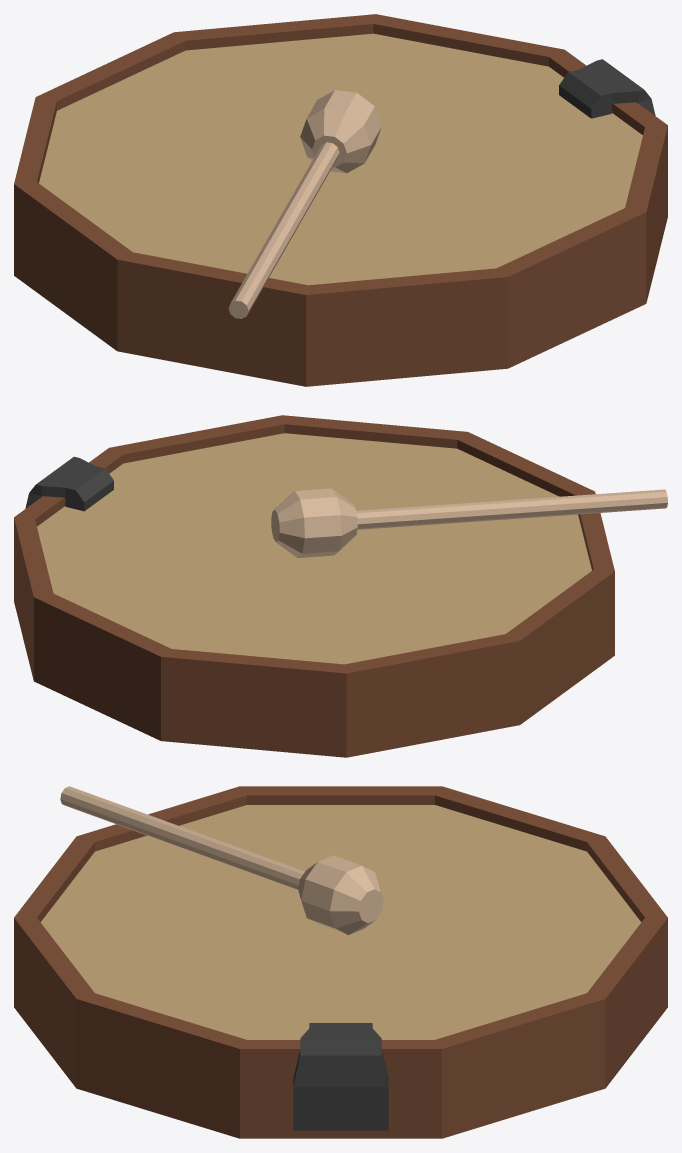
Rendered from drum.fbx.
3 renders of one model, top to bottom at view 1: azimuth 30°, elevation 25°; view 2: azimuth 150°, elevation 25°; view 3: azimuth 270°, elevation 25°, orthographic. The views are drawn at different scales.
Parts seen in each view (by area): view 1: skin, drum, drumstick, sensor; view 2: skin, drum, drumstick, sensor; view 3: skin, drum, drumstick, sensor.
Boxes of the visible parts, x1,y1,x2,y2 form: skin: (39,33,642,285); drum: (14,14,667,386); drumstick: (228,90,381,318); sensor: (559,59,655,118); skin: (37,433,591,664); drum: (14,415,614,757); drumstick: (271,488,667,557); sensor: (25,456,113,511); skin: (40,805,641,1039); drum: (14,786,667,1138); drumstick: (60,786,383,934); sensor: (293,1023,388,1130).
Bounding box in the file's own units: 19.65 × 4.86 × 20.
